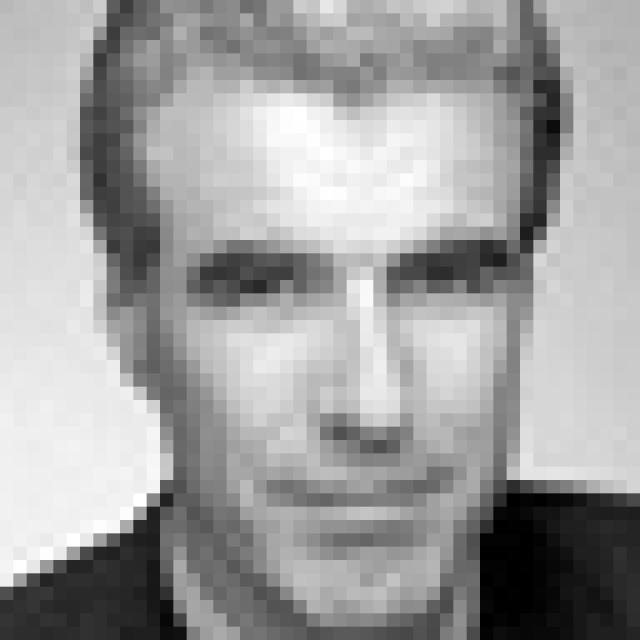neutral: (185, 230, 519, 560)
